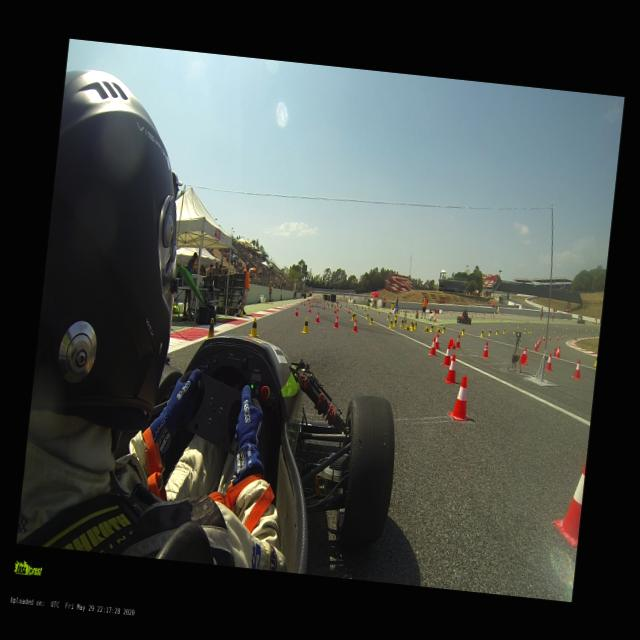orange_cone: (553, 438, 588, 546), (447, 374, 474, 421), (443, 354, 458, 384), (442, 343, 452, 366), (572, 358, 582, 379), (428, 336, 438, 356), (480, 340, 490, 360), (544, 352, 552, 370), (432, 332, 440, 348), (520, 346, 528, 361), (554, 346, 561, 358), (455, 334, 461, 348), (448, 338, 456, 348), (520, 354, 528, 364), (333, 316, 339, 328), (352, 319, 358, 331), (314, 312, 320, 322), (294, 307, 299, 316), (533, 342, 537, 351), (554, 348, 558, 355), (347, 308, 350, 314), (536, 339, 538, 348), (538, 336, 541, 342), (538, 337, 540, 345), (308, 307, 310, 313), (556, 336, 559, 340), (323, 304, 325, 310), (334, 308, 336, 313), (336, 306, 338, 311), (560, 335, 562, 340), (542, 336, 544, 341), (548, 336, 550, 340), (310, 303, 312, 307), (303, 302, 305, 306), (564, 334, 566, 338), (552, 330, 554, 334), (542, 327, 544, 331)
yellow_cone: (248, 316, 260, 336), (207, 317, 216, 338), (301, 316, 311, 333), (238, 304, 243, 315), (429, 322, 434, 332), (479, 328, 484, 338), (593, 354, 597, 366), (369, 316, 374, 324), (441, 324, 445, 334), (461, 326, 465, 336), (389, 318, 393, 328), (393, 318, 397, 327), (365, 312, 369, 320), (350, 312, 354, 320), (352, 312, 356, 320), (404, 324, 410, 329), (411, 320, 414, 330), (502, 328, 506, 334), (400, 318, 403, 326), (436, 326, 440, 332), (414, 321, 417, 328), (394, 313, 397, 320), (424, 326, 429, 330), (376, 310, 379, 316), (495, 328, 498, 334), (386, 314, 389, 320), (512, 328, 515, 334), (488, 328, 490, 336), (410, 319, 412, 327), (364, 308, 366, 314), (523, 329, 525, 334), (339, 305, 341, 310), (330, 304, 332, 308), (350, 307, 352, 311), (528, 329, 530, 333), (517, 323, 519, 327), (327, 304, 329, 308), (530, 328, 532, 332), (334, 304, 336, 308), (524, 324, 526, 328)
